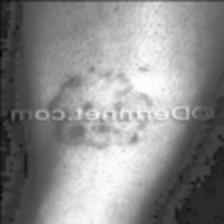Toxin: (46, 58, 164, 106), (48, 122, 151, 148)
